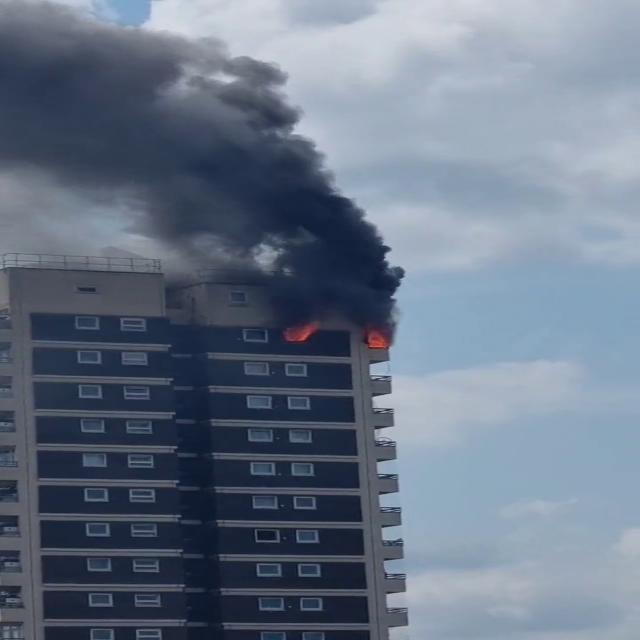Smoke: (0, 2, 404, 348)
